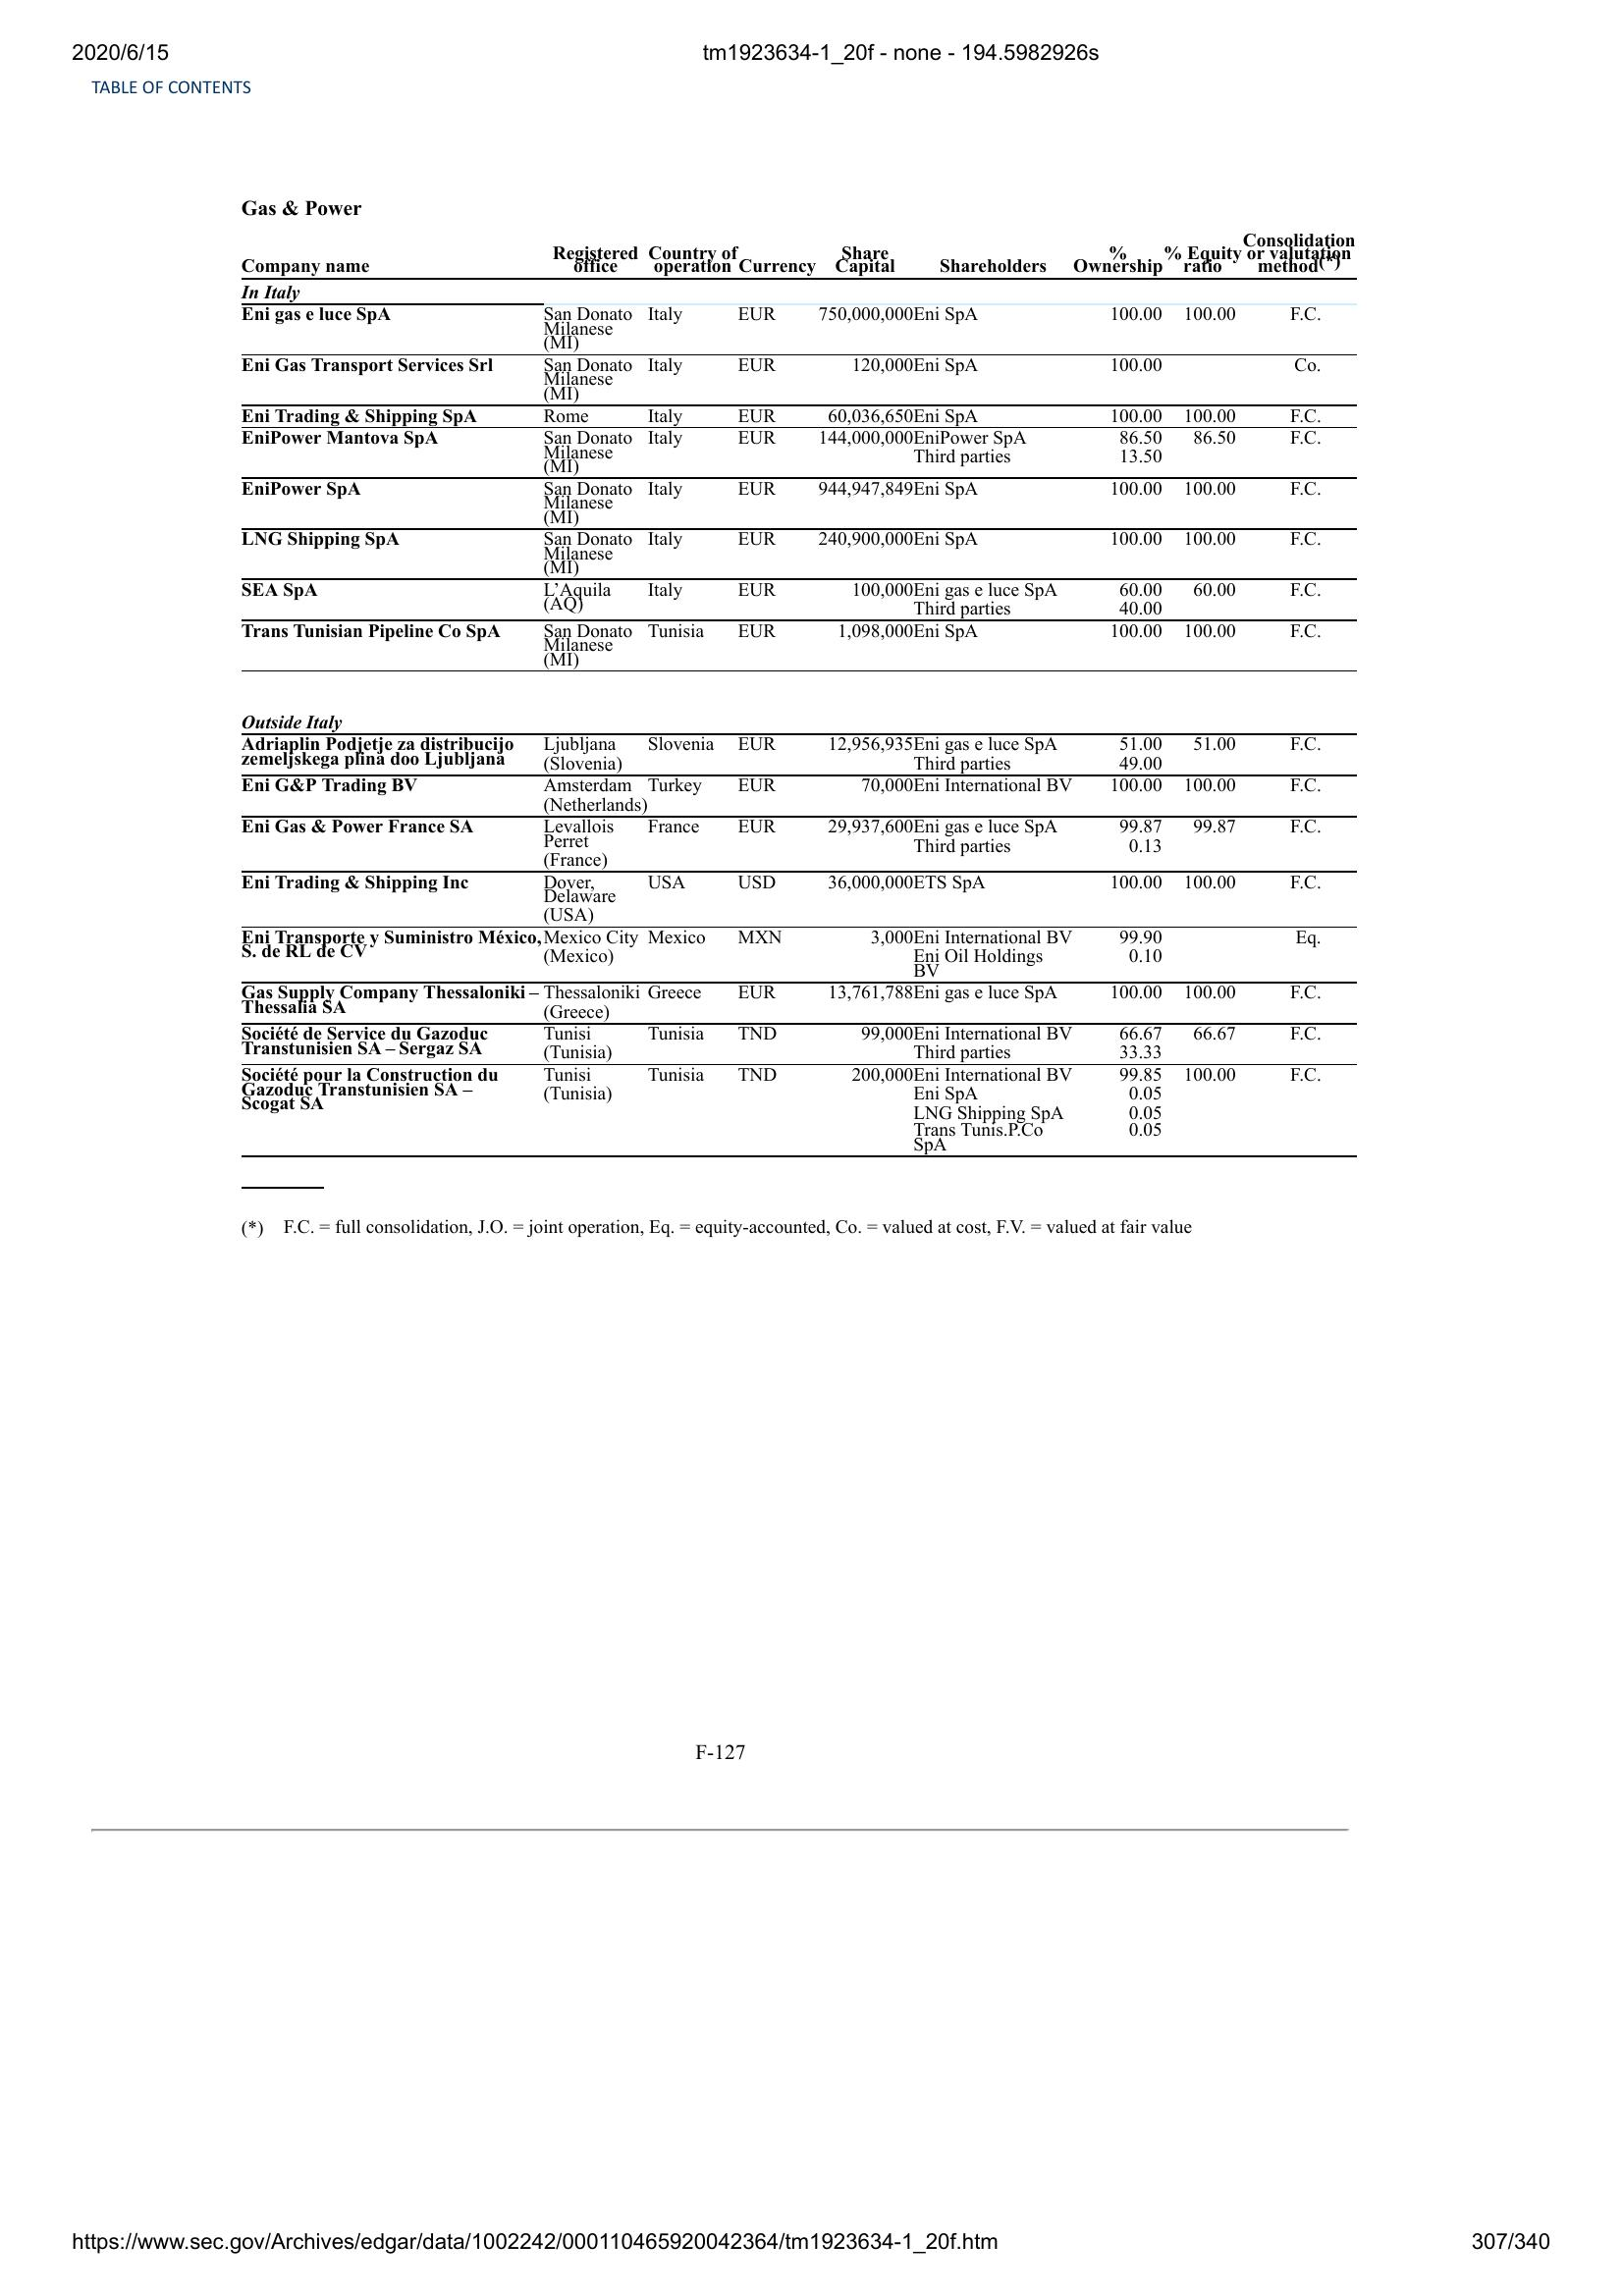table: (239, 228, 1367, 1164)
